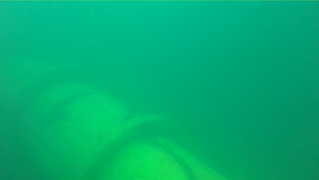1: (39, 90, 98, 128)
pipe: (1, 20, 229, 179)
